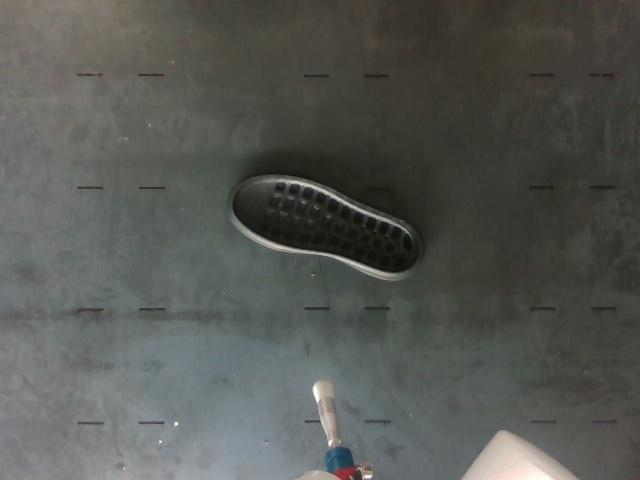shoes: (233, 179, 421, 274)
